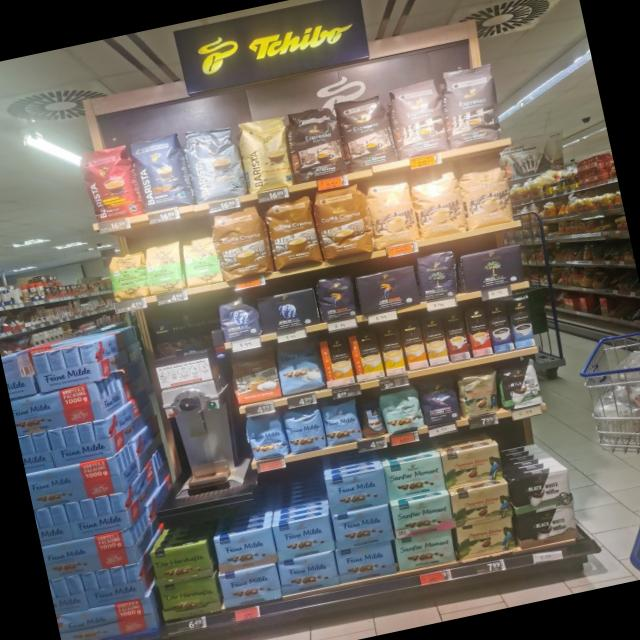AB Bohne: (214, 292, 262, 342)
AB Gemahlen: (254, 285, 321, 337)
Athiopien Bohne: (104, 247, 150, 303)
Athiopien Gemahlen: (140, 235, 188, 295), (176, 228, 222, 288)
BM Bohne: (413, 246, 464, 302)
BM Gemahlen: (457, 240, 530, 297)
BW Bohne: (497, 358, 546, 412)
BW Gemahlen: (509, 464, 575, 514), (514, 503, 580, 550)
Barista CB: (236, 113, 298, 194)
Barista CC: (182, 119, 250, 205)
Barista Espresso: (130, 130, 193, 216)
Barista Kolumbien: (77, 141, 143, 224)
C Fino Bohne: (417, 375, 463, 428)
CC Mild: (454, 152, 515, 232), (407, 160, 468, 239), (361, 170, 421, 248)
CC Vollmundig: (228, 344, 284, 406)
CC Vollmundig 36 Pads: (206, 202, 274, 283), (310, 178, 375, 262), (260, 192, 323, 271)
Colombia BB Bohne: (456, 366, 504, 418)
Colombia BB Gemahlen: (449, 480, 515, 528), (441, 441, 505, 489), (455, 515, 518, 560)
Espresso Aromatisch: (436, 60, 506, 148), (386, 76, 449, 160)
Espresso Kraftig: (332, 90, 398, 172), (284, 101, 348, 183)
FM 36 Pads: (272, 334, 327, 396)
FM Bohne: (280, 403, 328, 455), (242, 411, 288, 463), (318, 396, 364, 447)
FM Gemahlen: (212, 524, 278, 574), (324, 466, 391, 514), (217, 562, 283, 610), (275, 548, 341, 596), (270, 514, 336, 562), (330, 502, 396, 550), (333, 538, 398, 584)
FM Instant: (356, 396, 386, 440)
Herzhatfe Mundig: (148, 538, 214, 588), (156, 574, 222, 622)
LG Bohne: (312, 269, 361, 324)
LG Gemahlen: (355, 264, 422, 316)
SM Bohne: (378, 385, 426, 436)
SM Gemahlen: (390, 492, 456, 540), (383, 452, 448, 500), (393, 527, 458, 572)
Simo CCMild: (347, 329, 385, 382)
Simo CCMild bigpack: (378, 324, 408, 376)
Simo CCVollmundig: (318, 335, 354, 388)
Simo CCVollmundig bigpack: (398, 319, 429, 371)
Simo Decaff: (420, 314, 450, 366)
Simo Es Brazil: (463, 306, 494, 359)
Simo Es Caramel: (440, 308, 471, 362)
Simo Es Kraft: (485, 301, 515, 353)
Simo Es Vanilla: (507, 296, 536, 348)
